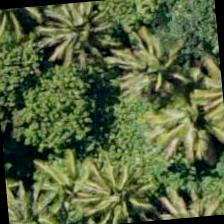Kelapa_Sawit: (108, 9, 206, 107), (5, 133, 104, 223), (135, 75, 223, 173), (28, 0, 125, 86), (52, 150, 149, 223), (5, 175, 59, 223)
